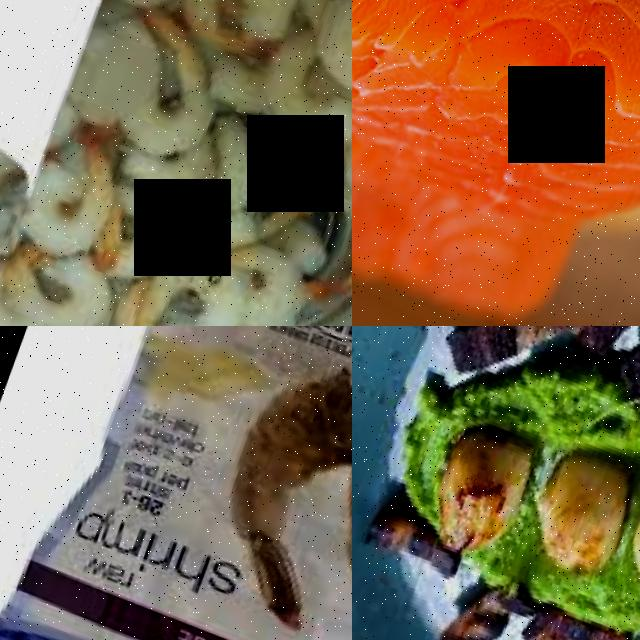salmon: (352, 0, 640, 294)
sea scallops: (529, 438, 640, 577)
shrimp: (190, 347, 352, 629), (5, 107, 141, 273), (132, 22, 233, 165), (0, 239, 129, 326), (143, 231, 258, 326), (301, 445, 352, 640), (171, 0, 310, 58)
